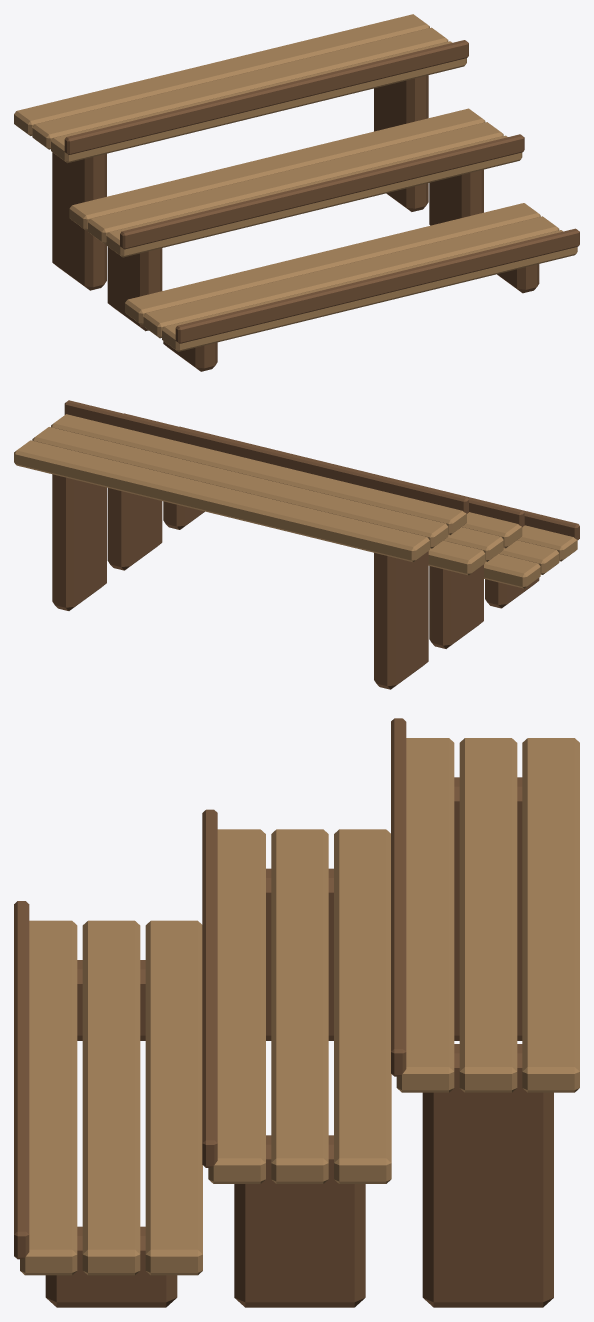
The picture shows the model from 3 angles, top to bottom: view 1: azimuth 30°, elevation 25°; view 2: azimuth 150°, elevation 25°; view 3: azimuth 270°, elevation 25°; orthographic projection. The views are drawn at different scales.
Parts seen in each view (by area): view 1: BA-0013 batched; view 2: BA-0013 batched; view 3: BA-0013 batched.
Part boxes in pixels (left/top/right/bottom): BA-0013 batched: left=14, top=14, right=579, bottom=371; BA-0013 batched: left=14, top=400, right=579, bottom=689; BA-0013 batched: left=14, top=718, right=579, bottom=1307.
Size of the model in its own units: 1.8 by 0.72 by 1.29.
